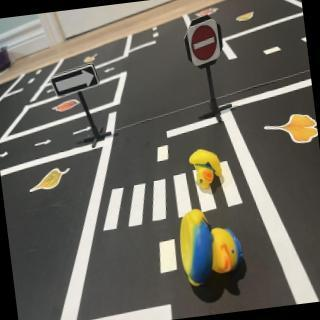duck_regular: (187, 145, 225, 191)
duck_specialty: (175, 203, 249, 291)
road_crosswalk: (94, 157, 248, 235)
road_oneway: (72, 124, 96, 139), (33, 138, 55, 151), (45, 86, 57, 97), (1, 149, 11, 161), (104, 67, 117, 75)
sign_noentry: (187, 18, 222, 67)
sign_oneway_right: (51, 64, 102, 99)
